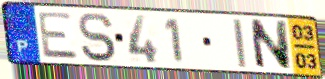1: (163, 17, 186, 64)
4: (125, 13, 162, 66)
E: (36, 10, 82, 61)
I: (230, 17, 249, 69)
N: (247, 17, 293, 71)
S: (77, 11, 119, 64)
